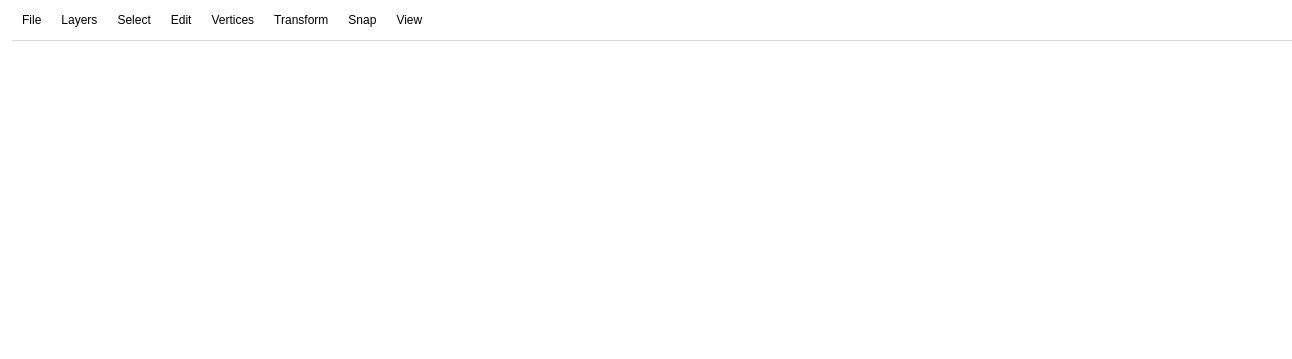
Scenario: the menu bar › moves between menus with the arrow keys and closes on Escape
Click the menu item "File". click: [32, 20]
box: [12,13,51,27]
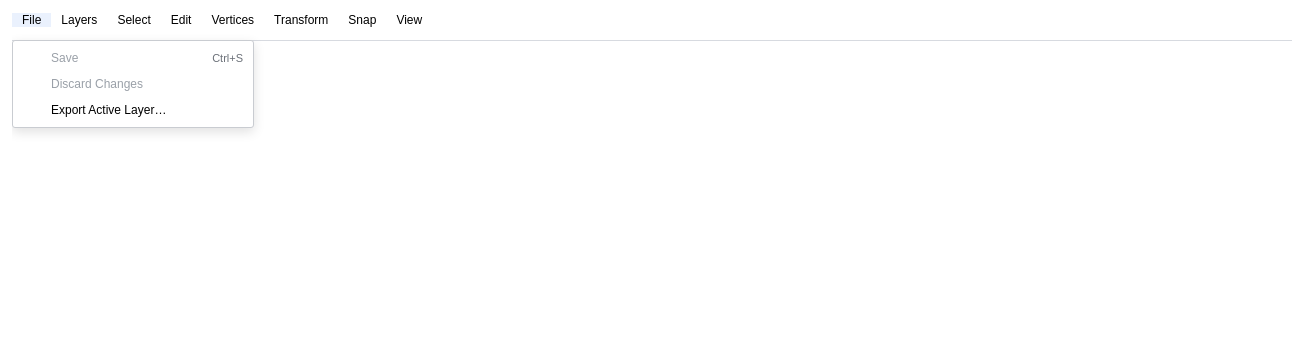
Now the menu named "File" is shown, box [12,40,254,128]
Press ArrowRight in the element named "Editing menus", box [12,12,1291,41]
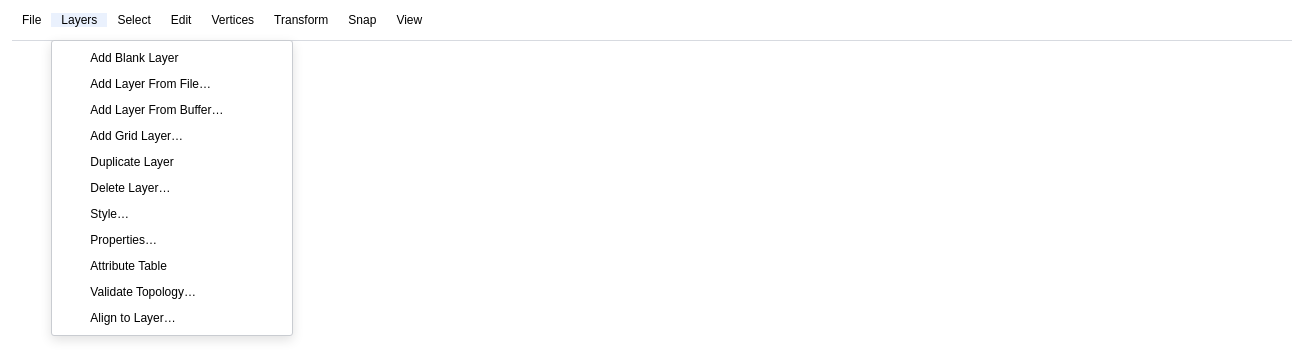
Now the menu named "Layers" is shown, box [51,40,293,336]
Press Escape in the element named "Editing menus", box [12,12,1291,41]
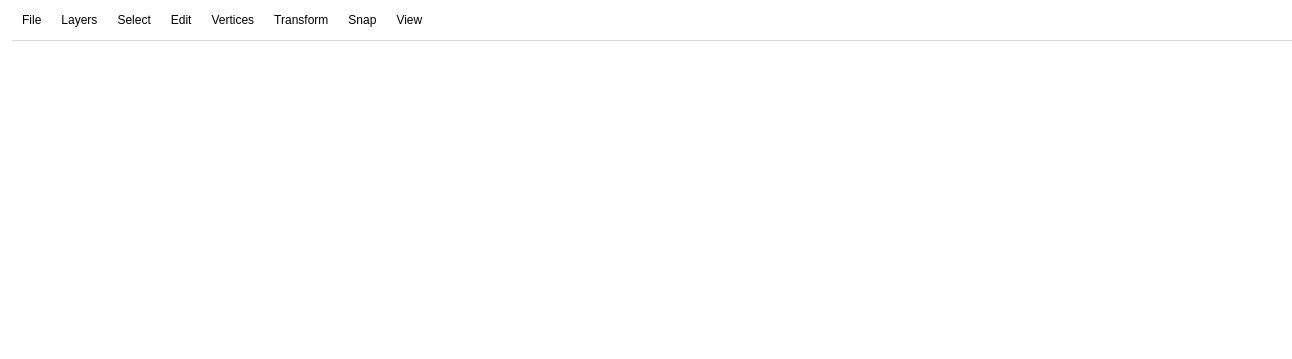
Now the menu is gone
